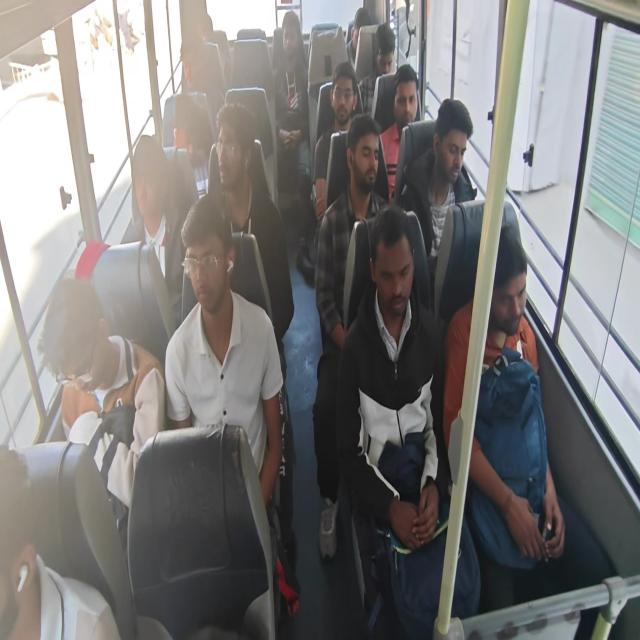person: (0, 451, 47, 610), (38, 300, 112, 400), (487, 250, 536, 350), (375, 230, 413, 320), (187, 220, 225, 309), (436, 120, 473, 196), (131, 148, 160, 223), (216, 121, 246, 190), (350, 128, 381, 187), (345, 11, 371, 62), (400, 75, 422, 130), (328, 78, 351, 126), (177, 52, 207, 86), (375, 32, 396, 80), (280, 22, 302, 61)
